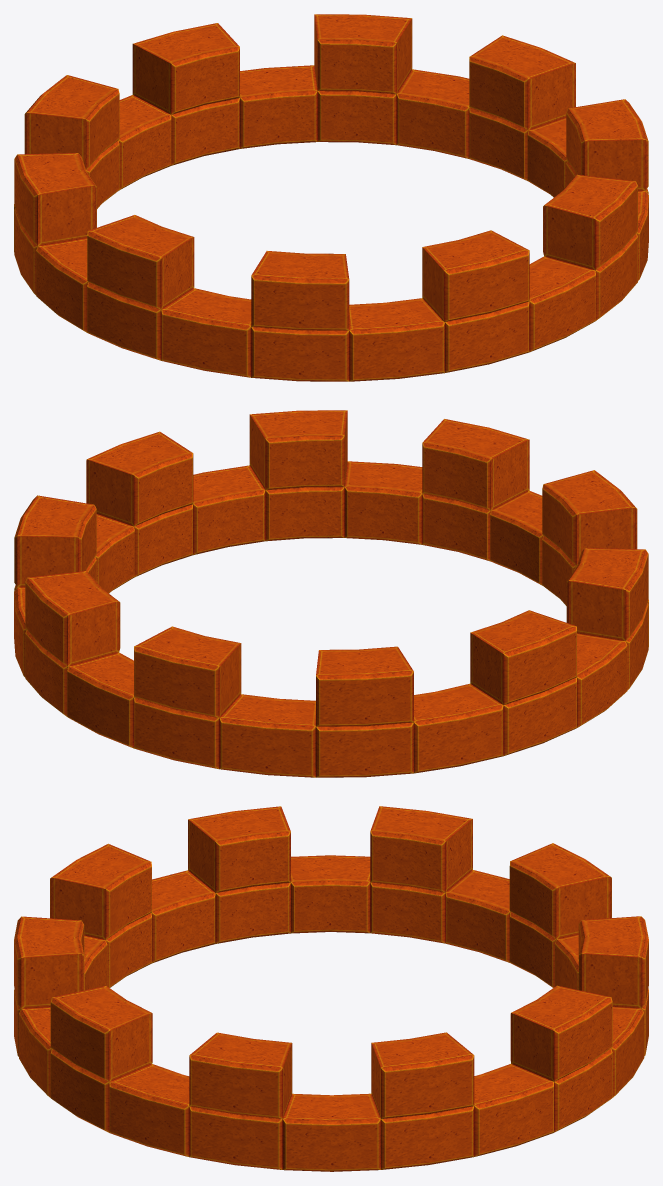
File: Castle_Border_Top_Round.fbx
3 views of the same model, one above another, from view 1: azimuth 30°, elevation 25°; view 2: azimuth 150°, elevation 25°; view 3: azimuth 270°, elevation 25° (orthographic).
Parts seen in each view (by area): view 1: Border_Cylinder_LOD0; view 2: Border_Cylinder_LOD0; view 3: Border_Cylinder_LOD0.
Boxes of the visible parts, x1,y1,x2,y2 form: Border_Cylinder_LOD0: [14, 14, 648, 381]; Border_Cylinder_LOD0: [14, 410, 648, 777]; Border_Cylinder_LOD0: [14, 806, 648, 1171].
Size of what is drawn, in the model's own units: 1281 by 227 by 1281.
